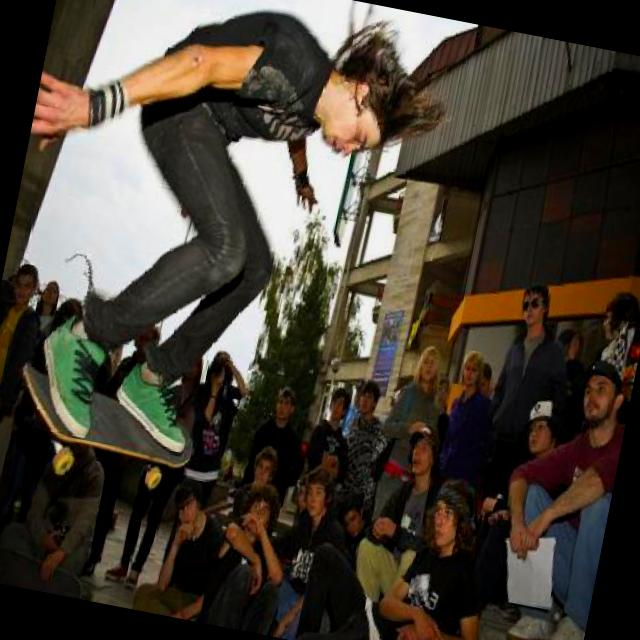Person: (0, 185, 599, 640), (0, 0, 459, 498), (475, 351, 635, 640), (288, 454, 514, 640), (459, 385, 582, 627), (350, 410, 450, 610), (251, 459, 360, 640), (364, 336, 454, 530), (197, 482, 301, 636), (134, 477, 232, 617), (438, 348, 508, 479), (594, 289, 640, 377), (330, 490, 376, 574), (474, 362, 504, 408)
